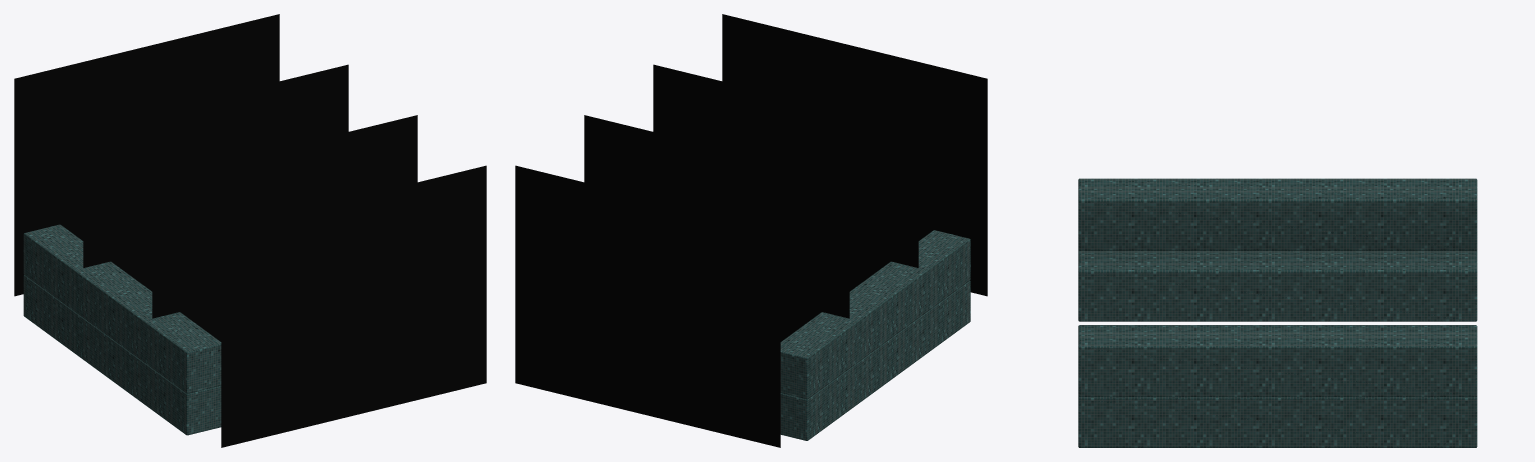
Rendered from ph_steam.gltf.
3 renders of one model, left to right at view 1: azimuth 30°, elevation 25°; view 2: azimuth 150°, elevation 25°; view 3: azimuth 270°, elevation 25°, orthographic. The views are drawn at different scales.
Visible parts, largest first — view 1: PHSteam_NoCollide_Vapour0, PHSteam_NoCollide_Vapour3, PHSteam_NoCollide_Vapour1, PHSteam_NoCollide_Vapour2, PHSteam_BenchW_Upper, PHSteam_BenchW_Lower; view 2: PHSteam_NoCollide_Vapour3, PHSteam_NoCollide_Vapour0, PHSteam_NoCollide_Vapour1, PHSteam_NoCollide_Vapour2, PHSteam_BenchW_Upper, PHSteam_BenchW_Lower; view 3: PHSteam_BenchW_Upper, PHSteam_BenchE_Upper, PHSteam_BenchW_Lower, PHSteam_BenchE_Lower.
Boxes of the visible parts, left/top/right/bottom form: PHSteam_NoCollide_Vapour0: left=221, top=165, right=486, bottom=447; PHSteam_NoCollide_Vapour3: left=14, top=14, right=279, bottom=296; PHSteam_NoCollide_Vapour1: left=152, top=115, right=417, bottom=341; PHSteam_NoCollide_Vapour2: left=83, top=64, right=348, bottom=291; PHSteam_BenchW_Upper: left=23, top=224, right=221, bottom=393; PHSteam_BenchW_Lower: left=23, top=275, right=221, bottom=435; PHSteam_NoCollide_Vapour3: left=515, top=165, right=780, bottom=447; PHSteam_NoCollide_Vapour0: left=722, top=14, right=987, bottom=296; PHSteam_NoCollide_Vapour1: left=653, top=64, right=918, bottom=291; PHSteam_NoCollide_Vapour2: left=584, top=115, right=849, bottom=341; PHSteam_BenchW_Upper: left=780, top=230, right=970, bottom=399; PHSteam_BenchW_Lower: left=780, top=281, right=970, bottom=440; PHSteam_BenchW_Upper: left=1078, top=178, right=1477, bottom=250; PHSteam_BenchE_Upper: left=1078, top=325, right=1477, bottom=396; PHSteam_BenchW_Lower: left=1078, top=250, right=1477, bottom=321; PHSteam_BenchE_Lower: left=1078, top=396, right=1477, bottom=447.
Bounding box in the file's own units: 3.2 × 2.4 × 4.05.
Materials: 2 (1 with a texture image).
